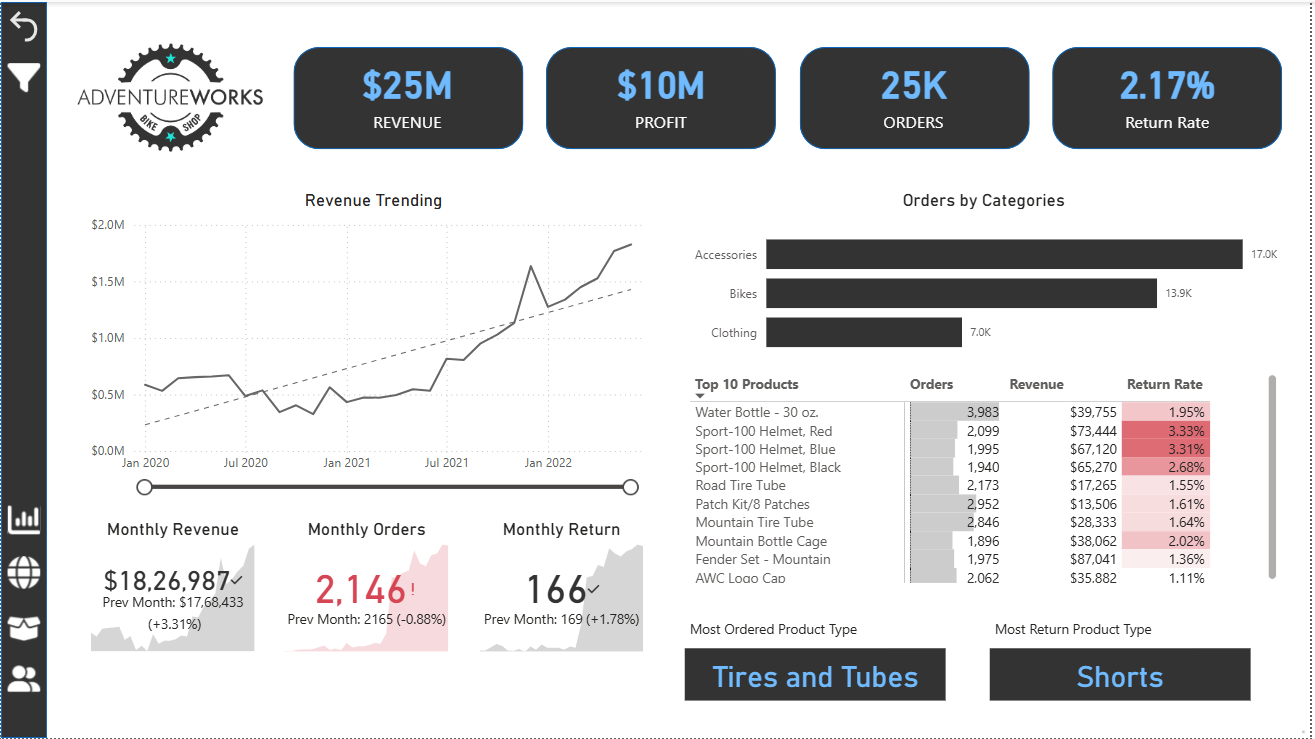

What the dashboard file says about the page in this screenshot:
{"tool":"powerbi","page":{"name":"Exec Dashboard","canvas":[1280,720],"ordinal":0},"visuals":[{"type":"card","fields":{"Values":["Measure Table.Total Revenue"]},"box":[301.2,32.5,193.8,111.2],"z":0,"group":"g2"},{"type":"image","title":"AW Logo","box":[45,37.5,241.2,111.2],"z":0},{"type":"shape","box":[286.2,43.7,225,100],"z":0,"group":"g1"},{"type":"group","id":"g1","title":"KPI Background","box":[286.2,43.7,967.5,100],"z":0,"group":"g3"},{"type":"shape","title":"Left Nav Background","box":[0,0,45,720],"z":1000},{"type":"group","id":"g2","title":"KPI Values","box":[301.2,32.5,937.5,111.2],"z":1000,"group":"g3"},{"type":"card","fields":{"Values":["Measure Table.Profit"]},"box":[549.1,32.5,193.8,111.2],"z":1000,"group":"g2"},{"type":"shape","box":[533.7,43.7,225,100],"z":1000,"group":"g1"},{"type":"group","id":"g3","title":"KPIs","box":[286.2,32.5,967.5,111.2],"z":2000},{"type":"card","fields":{"Values":["Measure Table.Total Orders"]},"box":[797,32.5,193.8,111.2],"z":2000,"group":"g2"},{"type":"shape","box":[781.2,43.7,225,100],"z":2000,"group":"g1"},{"type":"card","fields":{"Values":["Measure Table.Return Rate"]},"box":[1045,32.5,193.8,111.2],"z":3000,"group":"g2"},{"type":"shape","box":[1028.7,43.7,225,100],"z":3000,"group":"g1"},{"type":"clusteredBarChart","title":"Orders by Categories","fields":{"Category":["Product Categories Lookup.CategoryName"],"Y":["Measure Table.Total Orders"]},"box":[668.8,183.8,585,176.2],"z":3000},{"type":"lineChart","title":"Revenue Trending","fields":{"Category":["Calendar Lookup.Start of Month"],"Y":["Measure Table.Total Revenue"]},"box":[83.2,183.4,562.5,302],"z":4000},{"type":"kpi","title":"Monthly Revenue","fields":{"Goal":["Measure Table.Previous Month Revenue"],"Indicator":["Measure Table.Total Revenue"],"TrendLine":["Calendar Lookup.Start of Month"]},"box":[83.4,504.9,170.2,135.3],"z":5000},{"type":"kpi","title":"Monthly Orders","fields":{"Goal":["Measure Table.Previous Month Orders"],"Indicator":["Measure Table.Total Orders"],"TrendLine":["Calendar Lookup.Start of Month"]},"box":[273.3,505,170,135.7],"z":6000},{"type":"kpi","title":"Monthly Return","fields":{"Goal":["Measure Table.Previous Month Returns"],"Indicator":["Measure Table.Total Returns"],"TrendLine":["Calendar Lookup.Start of Month"]},"box":[463.5,505,170,135.7],"z":7000},{"type":"pivotTable","fields":{"Rows":["Product Lookup.ProductName"],"Values":["Measure Table.Total Orders","Measure Table.Total Revenue","Measure Table.Return Rate"]},"box":[668.9,359.5,584.5,214],"z":8000},{"type":"card","fields":{"Values":["Min(Product Subcategories Lookup.SubcategoryName)"]},"box":[668.9,632.2,255.6,51.4],"z":9000},{"type":"textbox","box":[1268,707.8,12.4,12.4],"z":10000},{"type":"textbox","box":[668.9,599.2,198.1,33],"z":11000},{"type":"card","fields":{"Values":["Min(Product Subcategories Lookup.SubcategoryName)"]},"box":[967.3,632.2,255.6,51.4],"z":12000},{"type":"textbox","box":[967.3,599.2,198.1,33],"z":13000},{"type":"actionButton","box":[0,3.8,45,40],"z":14000},{"type":"actionButton","box":[0,486.2,45,40],"z":15000},{"type":"actionButton","box":[0,537.5,45,40],"z":16000},{"type":"actionButton","box":[0,592.5,45,40],"z":17000},{"type":"actionButton","box":[0,642.5,45,40],"z":18000},{"type":"actionButton","box":[0,53.8,45.2,40.4],"z":19000}]}

Visuals, with their boxes on the page's 1280x720 design canvas (x1, y1, x2, y2). These are canvas units, not pixel positions in the 1315x739 screenshot, which may show the page scaled, cropped or inside an application window:
card - Measure Table.Total Revenue: pyautogui.locateOnScreen(301, 32, 495, 144)
"AW Logo" image: pyautogui.locateOnScreen(45, 38, 286, 149)
shape: pyautogui.locateOnScreen(286, 44, 511, 144)
"KPI Background" group: pyautogui.locateOnScreen(286, 44, 1254, 144)
"Left Nav Background" shape: pyautogui.locateOnScreen(0, 0, 45, 720)
"KPI Values" group: pyautogui.locateOnScreen(301, 32, 1239, 144)
card - Measure Table.Profit: pyautogui.locateOnScreen(549, 32, 743, 144)
shape: pyautogui.locateOnScreen(534, 44, 759, 144)
"KPIs" group: pyautogui.locateOnScreen(286, 32, 1254, 144)
card - Measure Table.Total Orders: pyautogui.locateOnScreen(797, 32, 991, 144)
shape: pyautogui.locateOnScreen(781, 44, 1006, 144)
card - Measure Table.Return Rate: pyautogui.locateOnScreen(1045, 32, 1239, 144)
shape: pyautogui.locateOnScreen(1029, 44, 1254, 144)
"Orders by Categories" clusteredBarChart: pyautogui.locateOnScreen(669, 184, 1254, 360)
"Revenue Trending" lineChart: pyautogui.locateOnScreen(83, 183, 646, 485)
"Monthly Revenue" kpi: pyautogui.locateOnScreen(83, 505, 254, 640)
"Monthly Orders" kpi: pyautogui.locateOnScreen(273, 505, 443, 641)
"Monthly Return" kpi: pyautogui.locateOnScreen(464, 505, 634, 641)
pivotTable - Product Lookup.ProductName x Measure Table.Total Orders: pyautogui.locateOnScreen(669, 360, 1253, 574)
card - Min(Product Subcategories Lookup.SubcategoryName): pyautogui.locateOnScreen(669, 632, 924, 684)
textbox: pyautogui.locateOnScreen(1268, 708, 1280, 720)
textbox: pyautogui.locateOnScreen(669, 599, 867, 632)
card - Min(Product Subcategories Lookup.SubcategoryName): pyautogui.locateOnScreen(967, 632, 1223, 684)
textbox: pyautogui.locateOnScreen(967, 599, 1165, 632)
actionButton: pyautogui.locateOnScreen(0, 4, 45, 44)
actionButton: pyautogui.locateOnScreen(0, 486, 45, 526)
actionButton: pyautogui.locateOnScreen(0, 538, 45, 578)
actionButton: pyautogui.locateOnScreen(0, 592, 45, 632)
actionButton: pyautogui.locateOnScreen(0, 642, 45, 682)
actionButton: pyautogui.locateOnScreen(0, 54, 45, 94)
